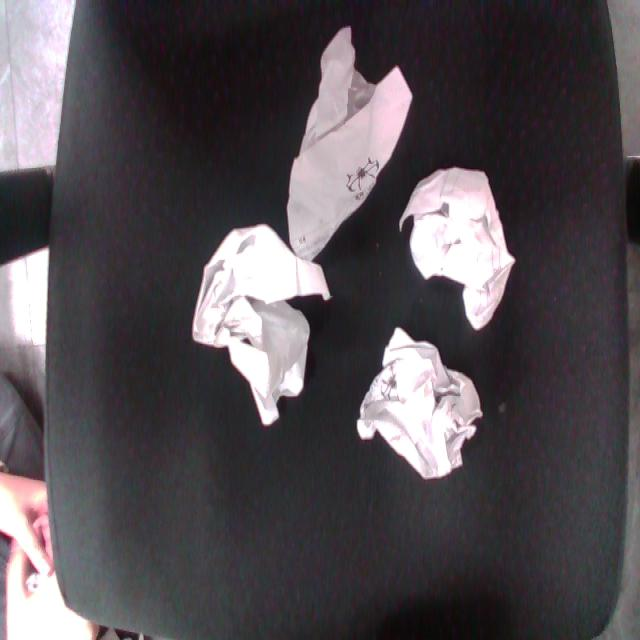paper: (132, 205, 384, 454), (232, 18, 437, 285), (340, 129, 572, 352), (310, 308, 521, 512)
